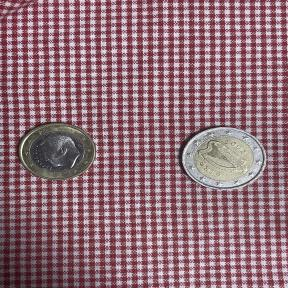1 Euro-B: (16, 117, 100, 183)
2 Euro-B: (175, 124, 269, 195)
